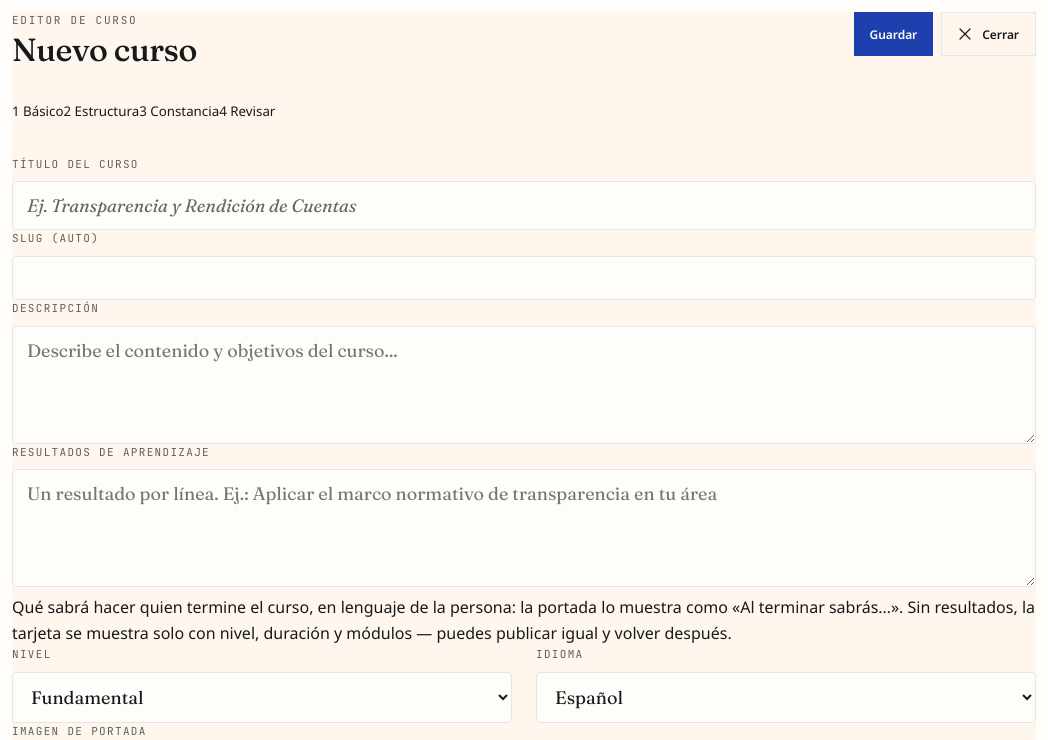
Test: AdminCourseEditor › rechaza guardar un curso MARCADO COMO PUBLICADO si le faltan datos
Click the button with test id "guardar" at (893, 34), box [854,12,933,56]
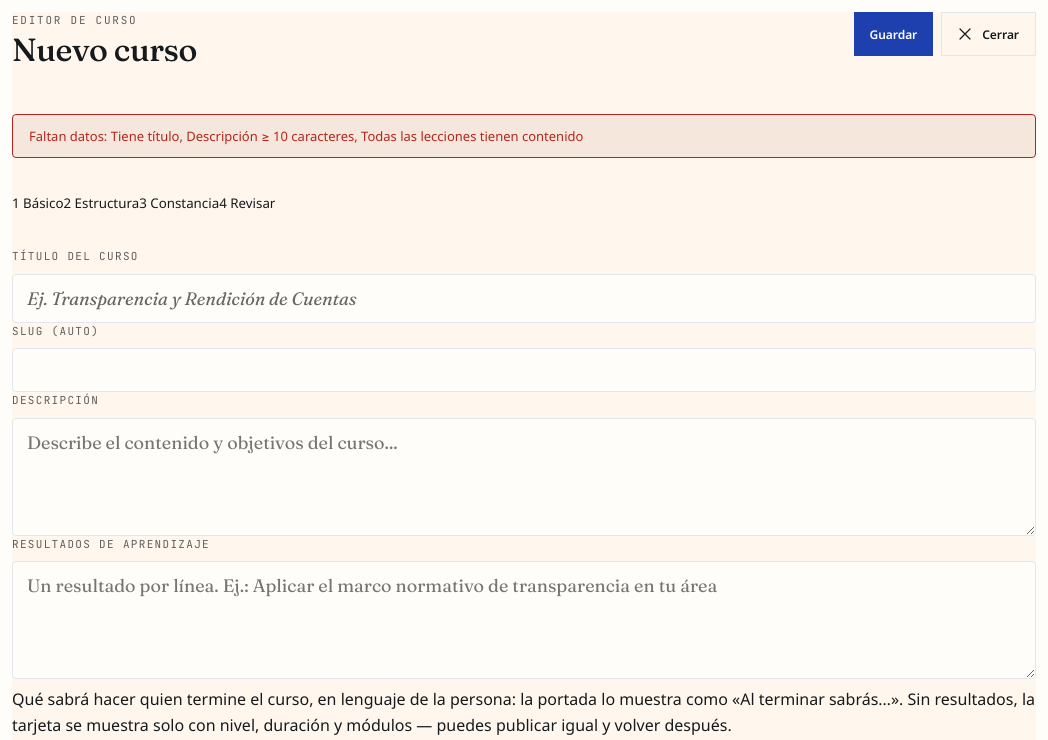
Expected: the text "Faltan datos" is shown, [29,127,583,145]
